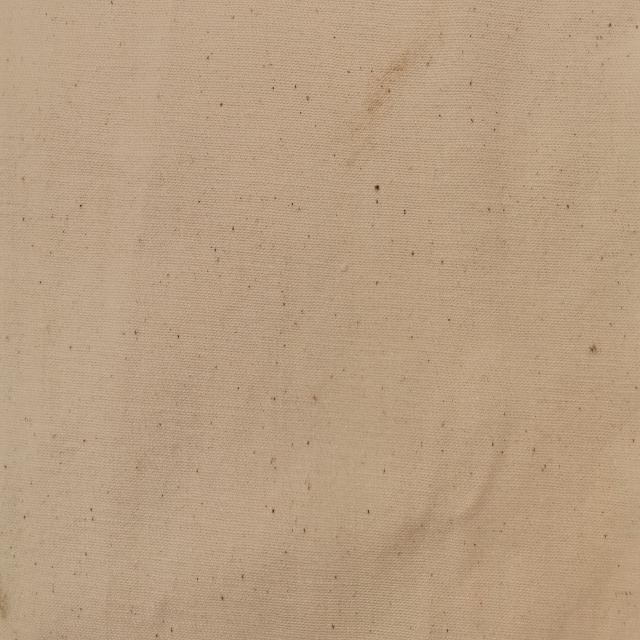taaaches: (358, 14, 448, 120), (1, 580, 10, 628)
